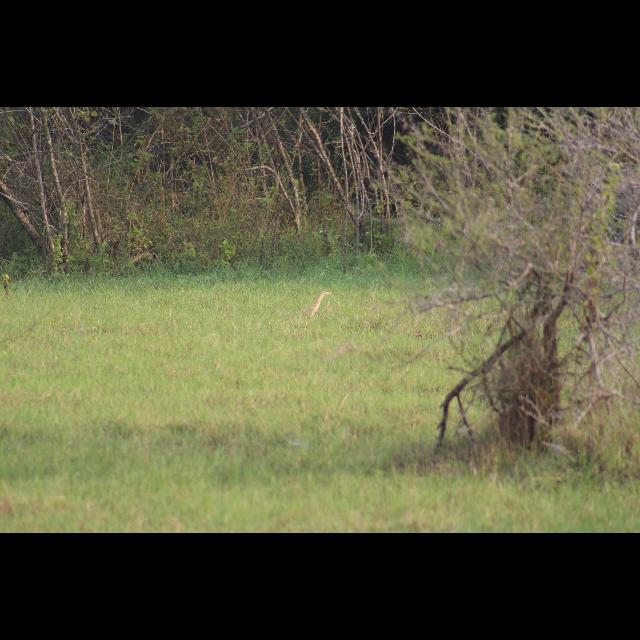heron: (302, 288, 334, 324)
